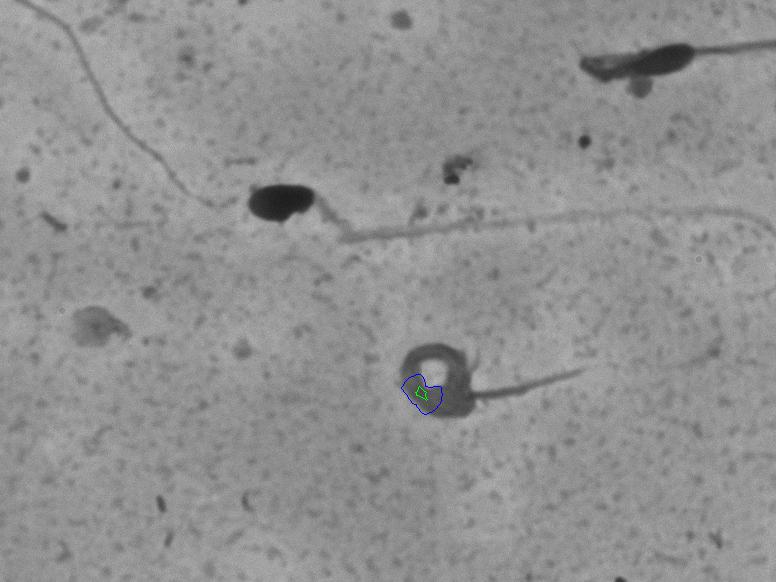Abnormal: (232, 126, 773, 308), (534, 14, 767, 116)
